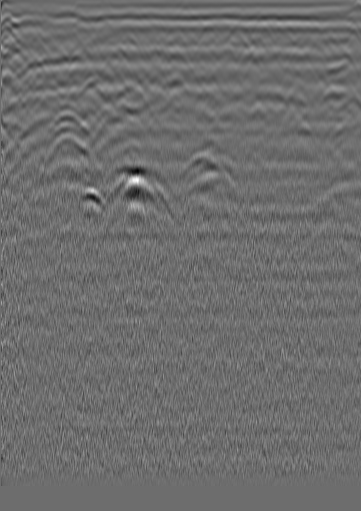가스: (78, 186, 109, 221)
상수: (304, 30, 324, 50)
오수: (26, 34, 46, 54)
우수: (177, 27, 197, 47)
